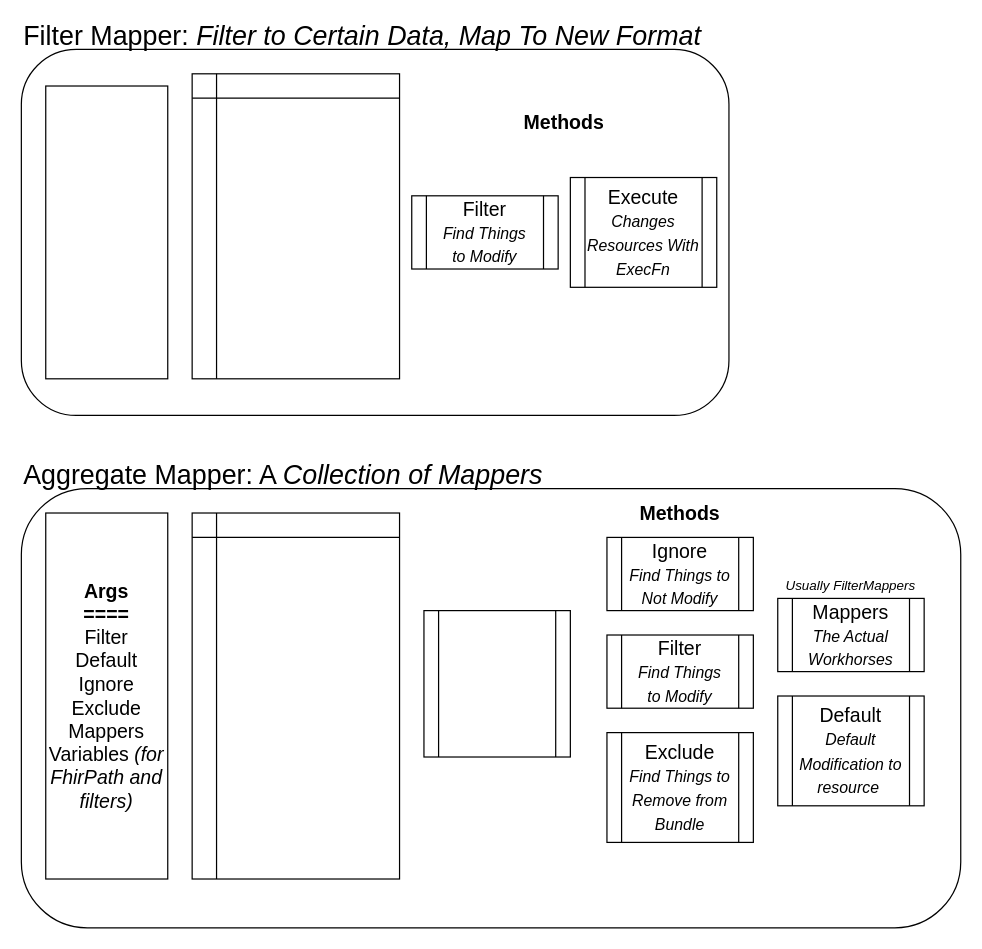
Some shapes in this 982 by 949 pixel diagram are drawn without their labels. Here are the shapes that lost their labels. From the top down, the centre of each, then its label:
At (106,232): "Args ==== Filter Exec Variables (for FhirPath and filters)".
At (295,226): "Internal Data =========== args filterFn execFn".
At (295,695): "Internal Data =========== args filterFn defaultFn ignoreFn excludeFn mappers".
At (496,683): "Execute Iterate Over Bundle, Find Mapper, Then Modify".
